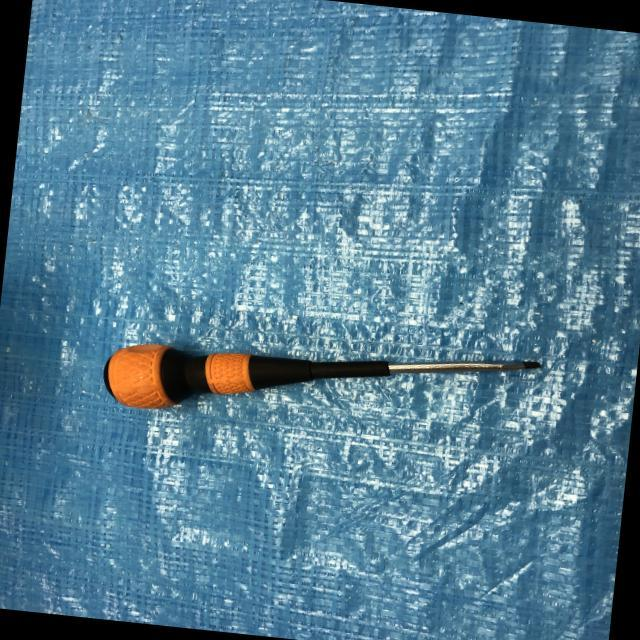screwdriver: (93, 310, 556, 451)
